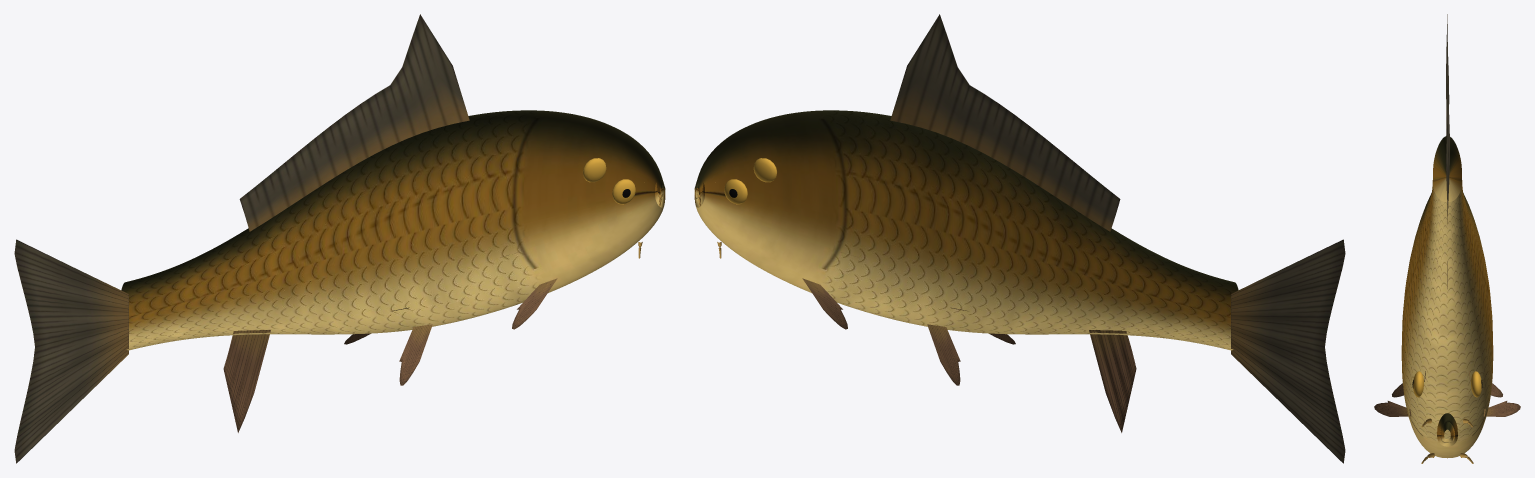
The model's file is fish_carp.gltf.
The picture shows the model from 3 angles, left to right: view 1: azimuth 30°, elevation 25°; view 2: azimuth 150°, elevation 25°; view 3: azimuth 270°, elevation 25°; orthographic projection.
Parts seen in each view (by area): view 1: fish_carp; view 2: fish_carp; view 3: fish_carp.
Boxes of the visible parts, bbox=[...] form: fish_carp: bbox=[14, 14, 665, 463]; fish_carp: bbox=[694, 14, 1345, 463]; fish_carp: bbox=[1374, 14, 1520, 463].
Size of the model in its own units: 0.5109 by 0.2813 by 0.101.
Materials: 7 (4 with a texture image).
